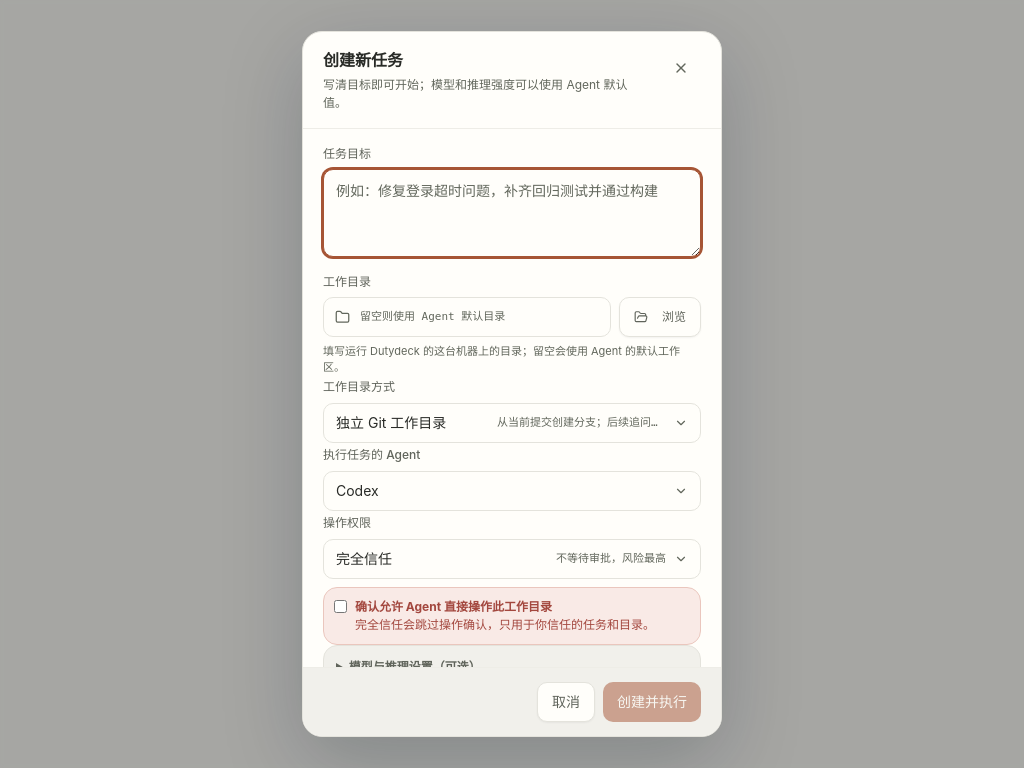
NewSessionModal create → dispatch › 完全信任必须显式确认后才能创建
Step 1. Type "执行高权限任务" into the text box labelled "任务目标" → (512, 213), box [323, 169, 701, 257]
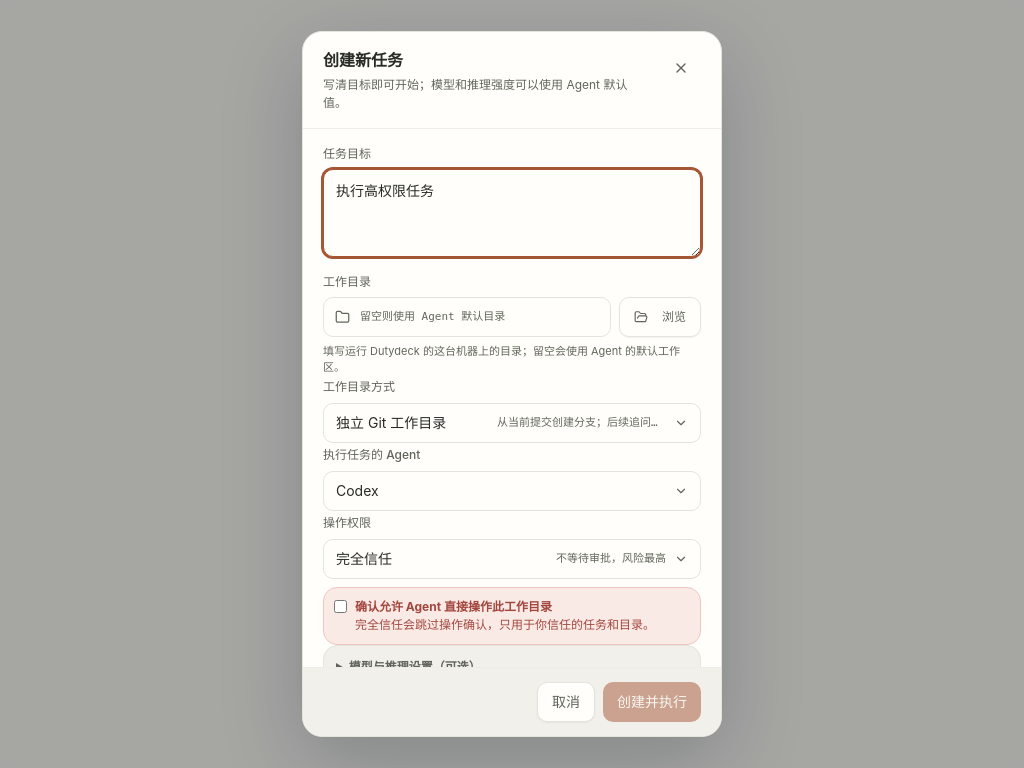
Expected: the button "创建并执行" is disabled, [603, 682, 701, 722]
Step 2. Click the checkbox labelled "确认允许 Agent 直接操作此工作目录 完全信任会跳过操作确认，只用于你信任的任务和目录。" → (340, 606), box [334, 600, 347, 613]
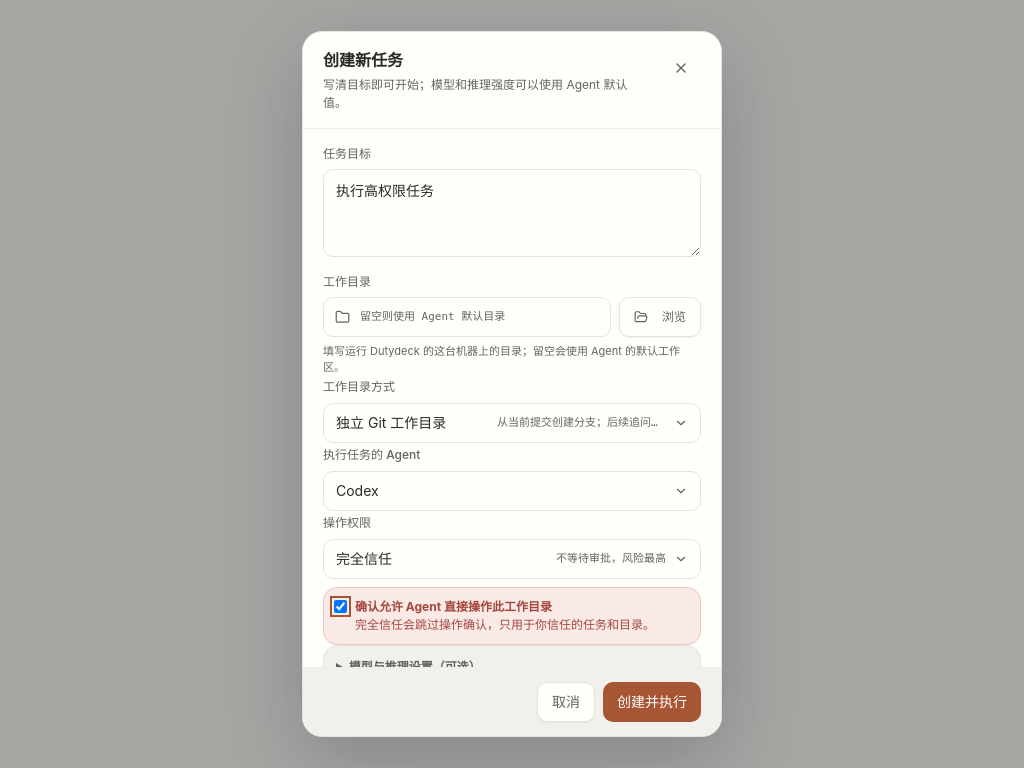
Expected: the button "创建并执行" is enabled, [603, 682, 701, 722]
